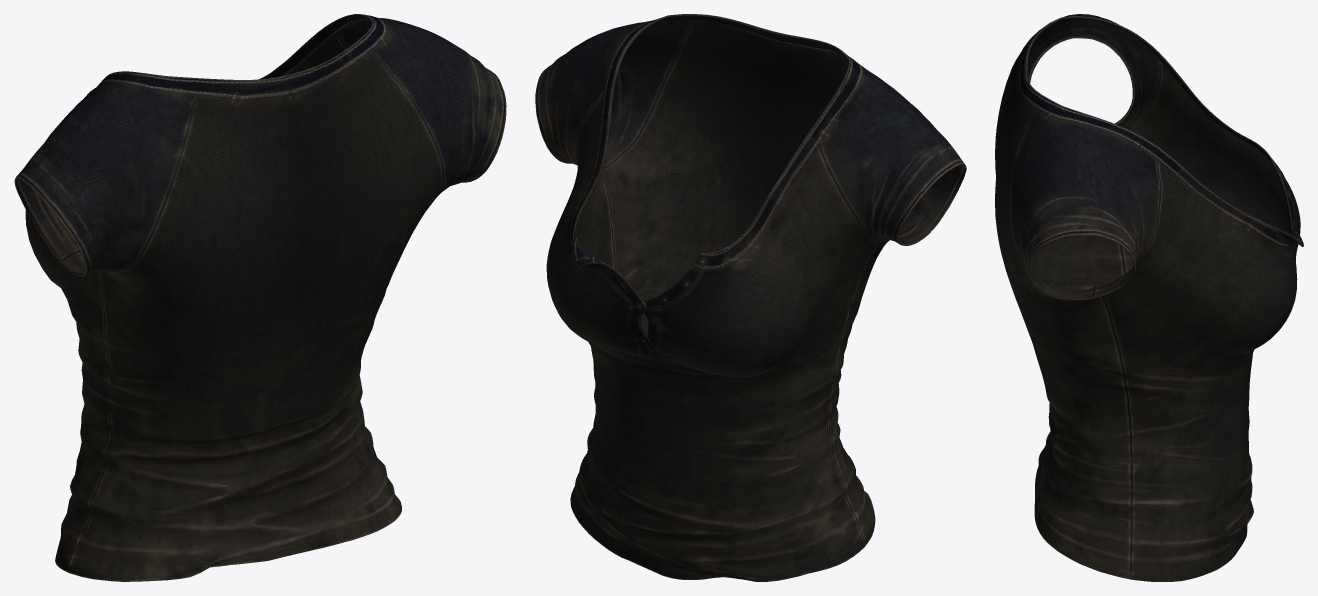
Rendered from vneck_t-shirt_for_female.glb.
The picture shows the model from 3 angles, left to right: view 1: azimuth 30°, elevation 25°; view 2: azimuth 150°, elevation 25°; view 3: azimuth 270°, elevation 25°; orthographic projection. The views are drawn at different scales.
Visible parts, largest first — view 1: Object_2; view 2: Object_2; view 3: Object_2.
Part boxes in pixels (left/top/right/bottom): Object_2: left=14, top=14, right=506, bottom=581; Object_2: left=535, top=14, right=966, bottom=581; Object_2: left=995, top=14, right=1303, bottom=581.
Bounding box in the file's own units: 1.57 × 1.74 × 1.03.
1 material, 1 textured.
